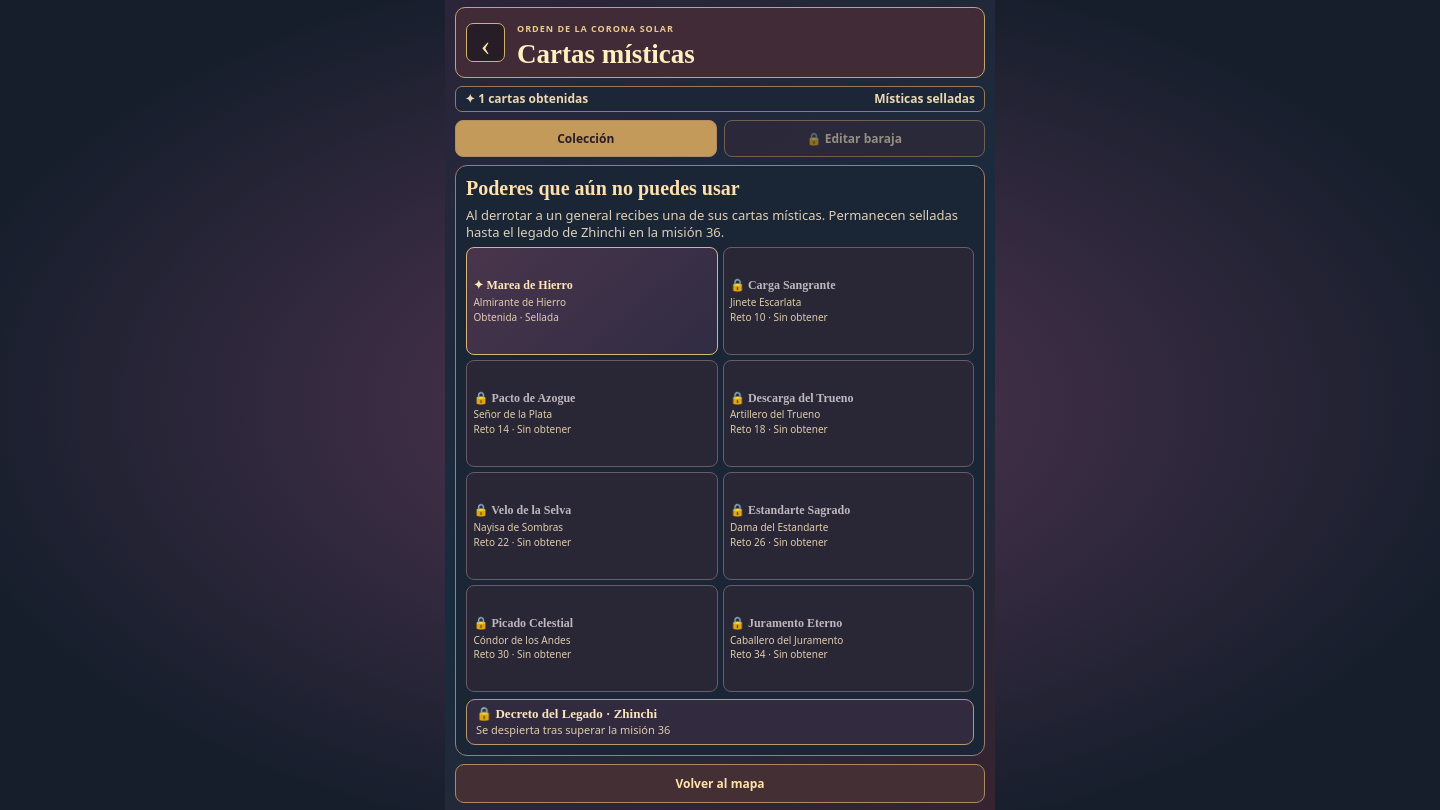
los nombres y combos de cada mística se pueden consultar antes de equiparlas
Step 1. Click the button with aria-label "Ver habilidad de Almirante de Hierro" → (592, 301), box 466,247 -> 718,355
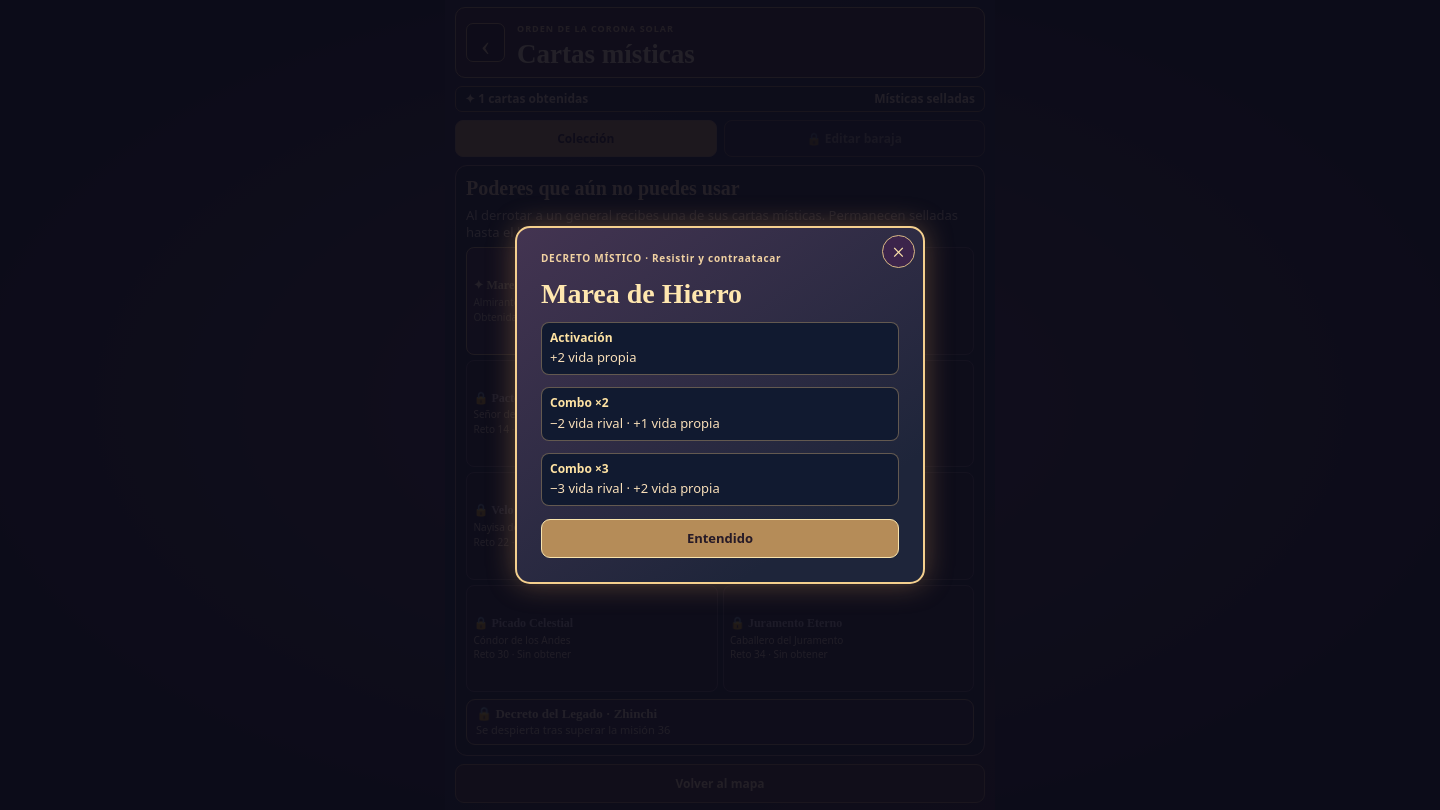
Result: the dialog named "Habilidad Marea de Hierro" is shown at 515,226 -> 925,584
Result: the text "Combo ×2" is shown at 550,394 -> 609,411
Result: the text "Combo ×3" is shown at 550,460 -> 609,477
Step 2. Click the button named "Cerrar detalles" → (898, 252), box 882,235 -> 915,268
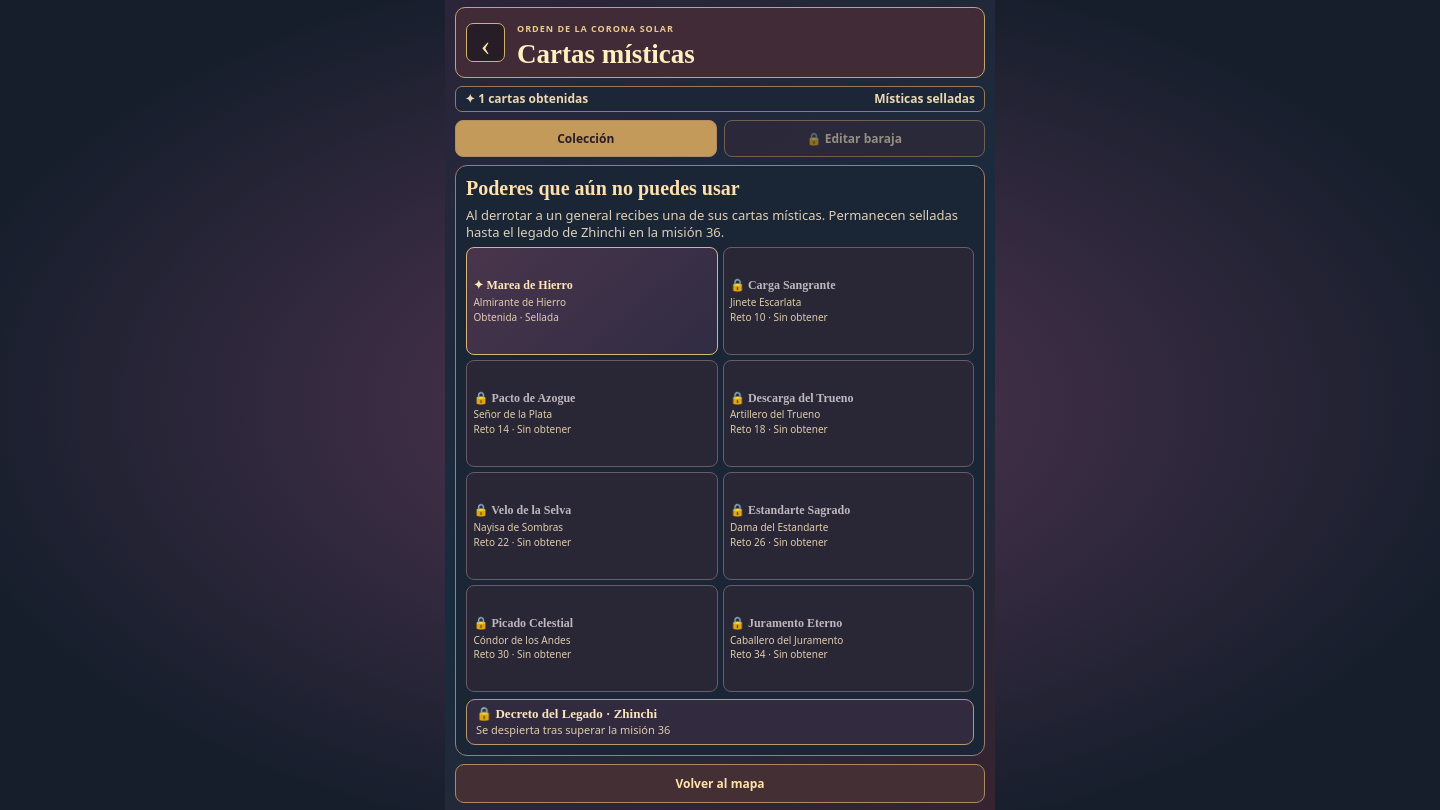
Result: the dialog is gone
